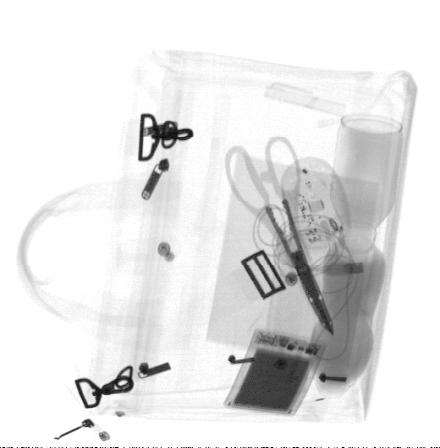Powerbank: (221, 322, 327, 421)
Scissors: (226, 134, 334, 340)
